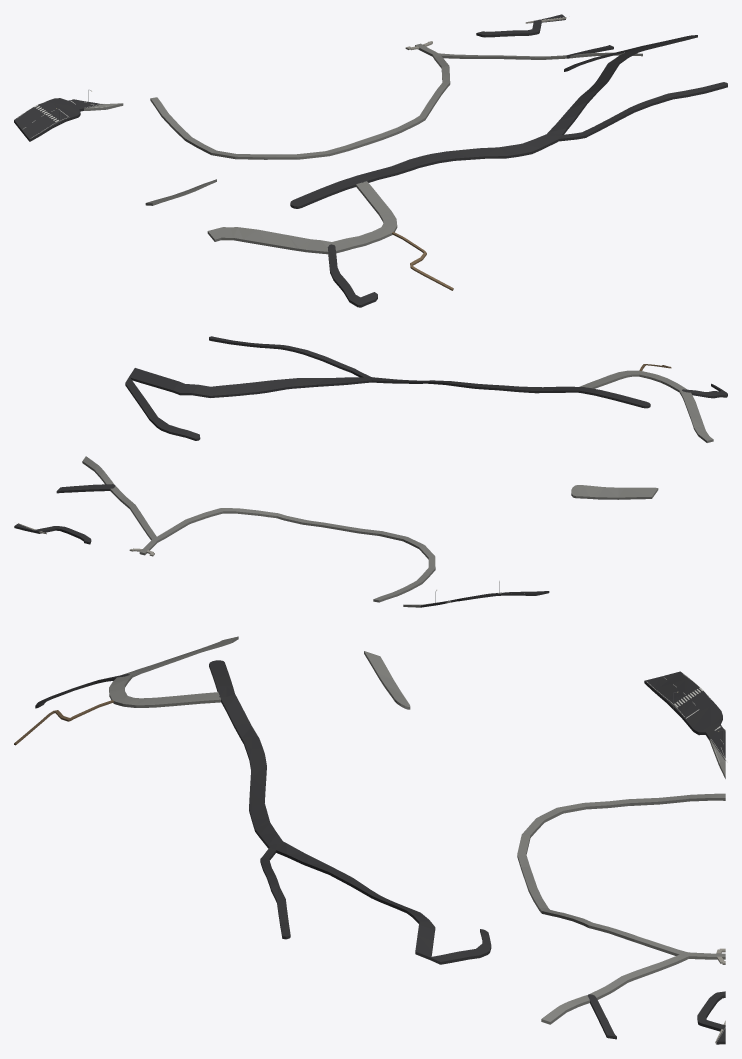
The picture shows the model from 3 angles, top to bottom: view 1: azimuth 30°, elevation 25°; view 2: azimuth 150°, elevation 25°; view 3: azimuth 270°, elevation 25°; orthographic projection. The views are drawn at different scales.
Bounding box in the file's own units: 296 × 49.88 × 280.
